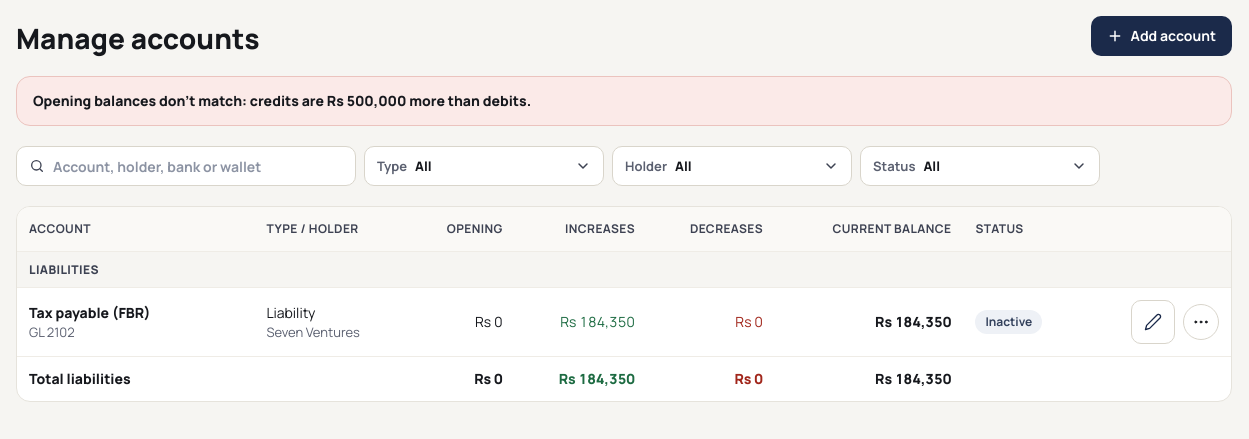
it: Manage accounts: the table › offers Reactivate on an inactive system account
Step 1. Click the button named "More for Tax payable (FBR)" → {"x": 1201, "y": 322}, box left=1183, top=304, right=1219, bottom=340
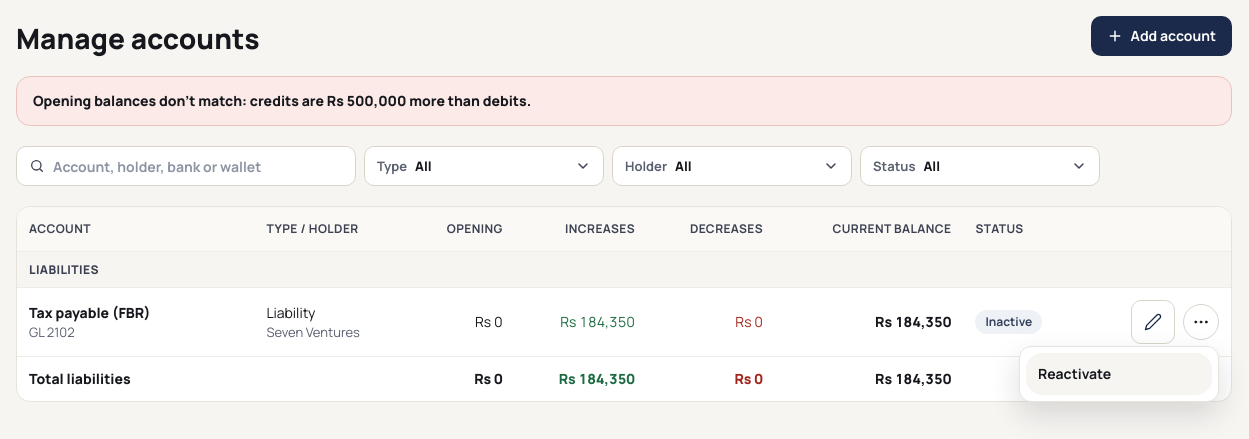
Check: the menu item "Reactivate" is shown, box left=1026, top=353, right=1212, bottom=395
